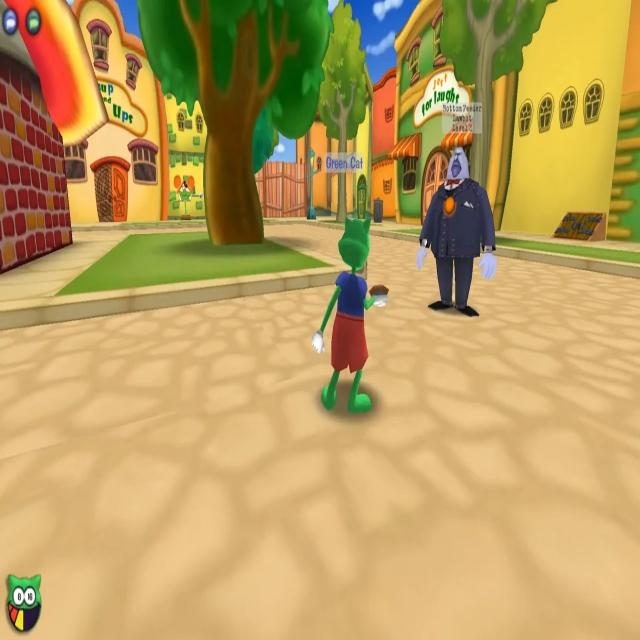bottomfeeder: (415, 100, 494, 320)
